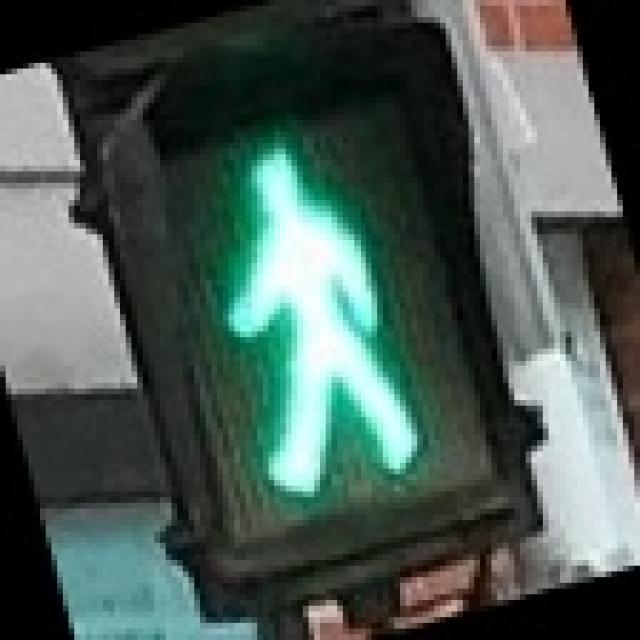green_light: (109, 68, 508, 554)
